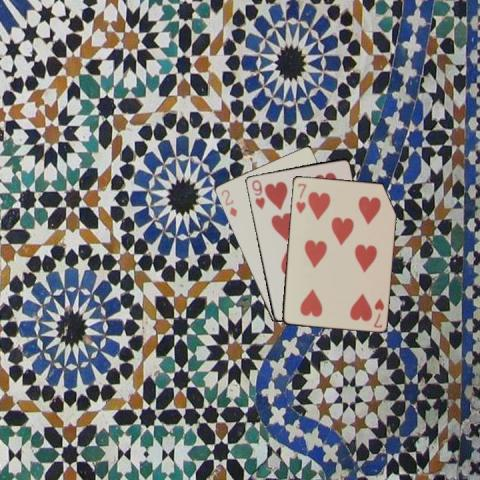2d: (218, 186, 239, 218)
7h: (293, 180, 307, 215), (371, 295, 385, 329)
9h: (249, 176, 266, 210)
